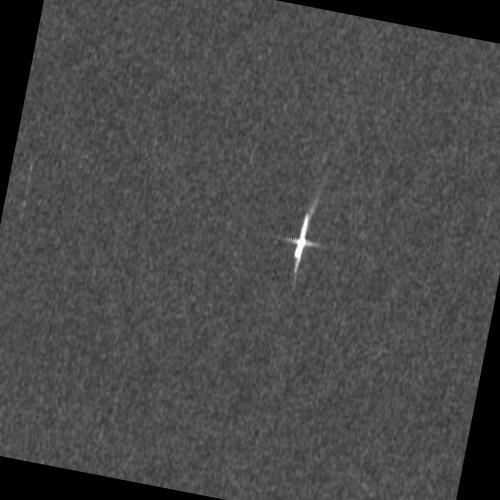ship: (293, 213, 309, 261)
